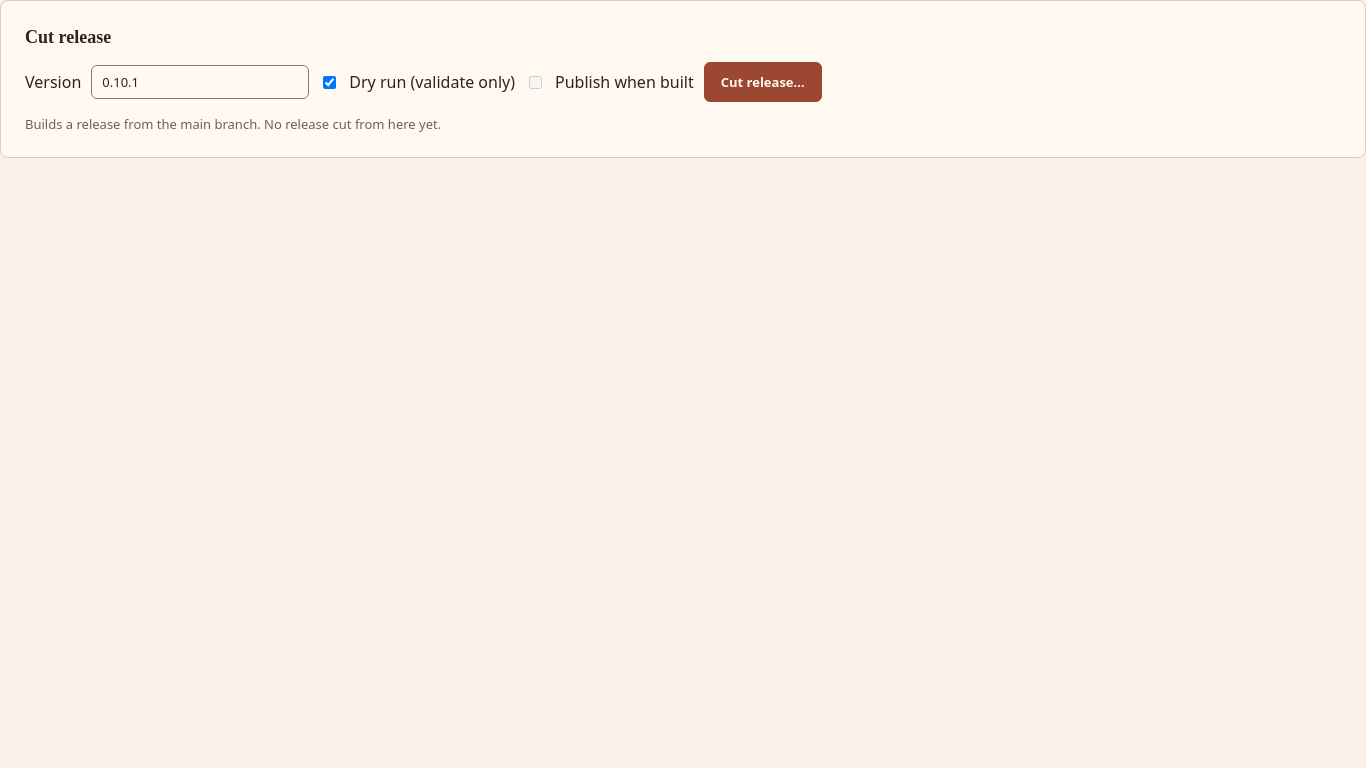
it: Cut release › shows the board's refusal when GitHub says no
Replace the text in the field with test id "cut-version" with "0.10.0": (200, 82) left=91, top=65, right=309, bottom=99
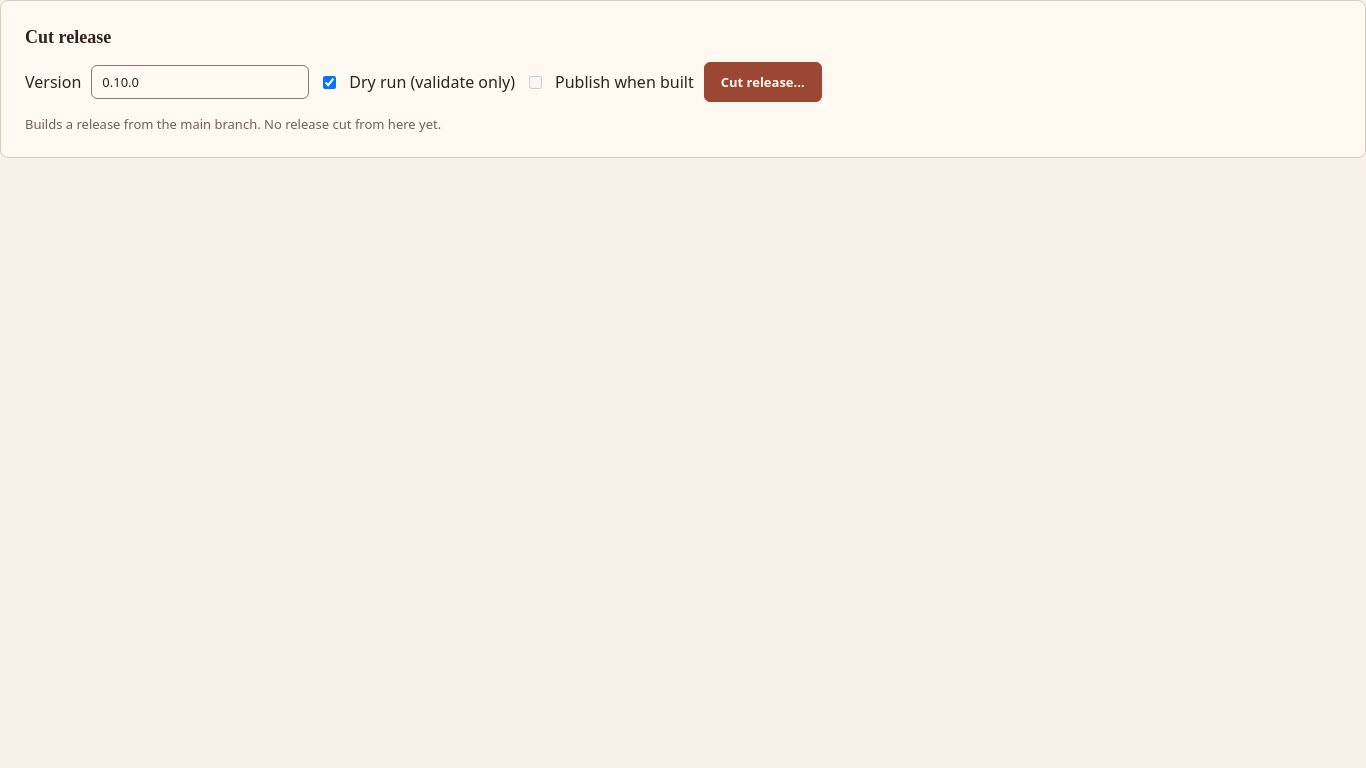
Click the button with test id "cut-release-open": click(763, 82) left=704, top=62, right=822, bottom=102
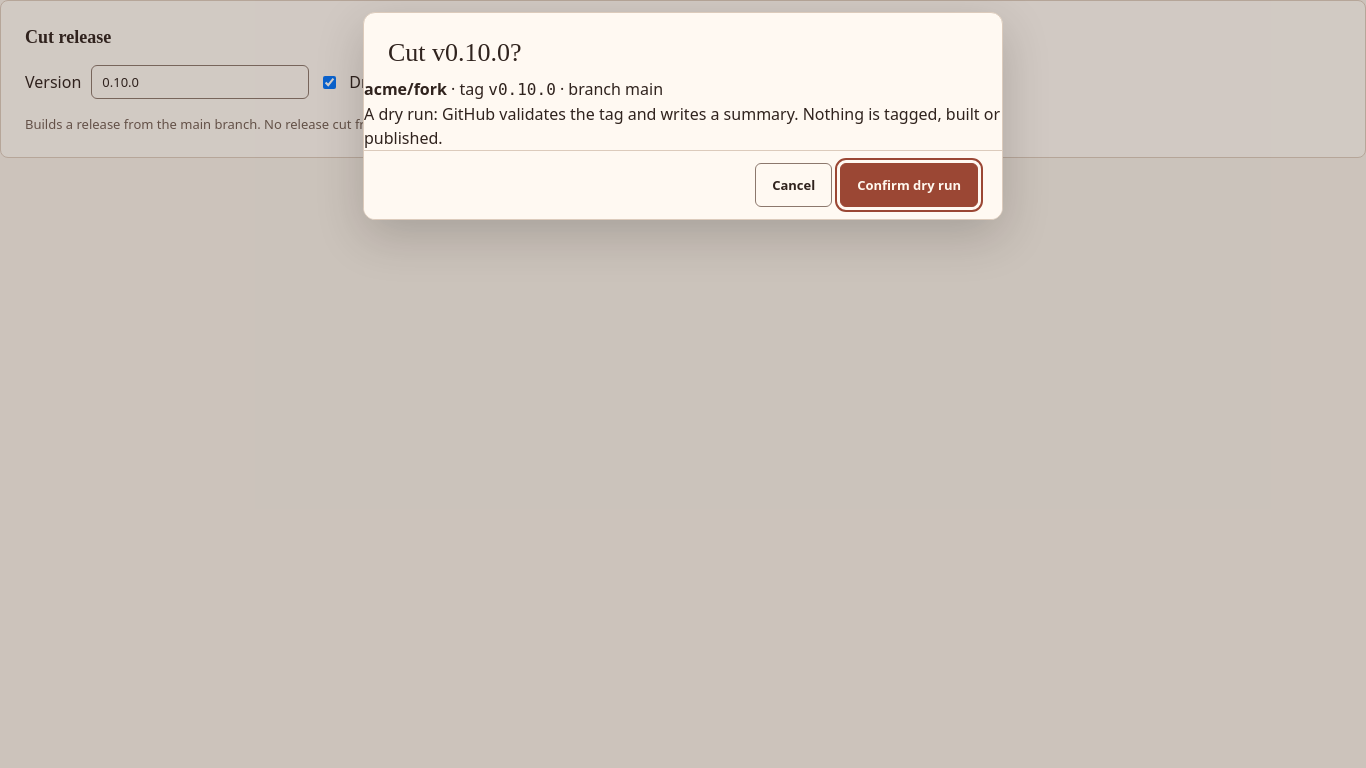
Click the button with test id "cut-confirm-go": click(909, 185) left=840, top=163, right=978, bottom=207
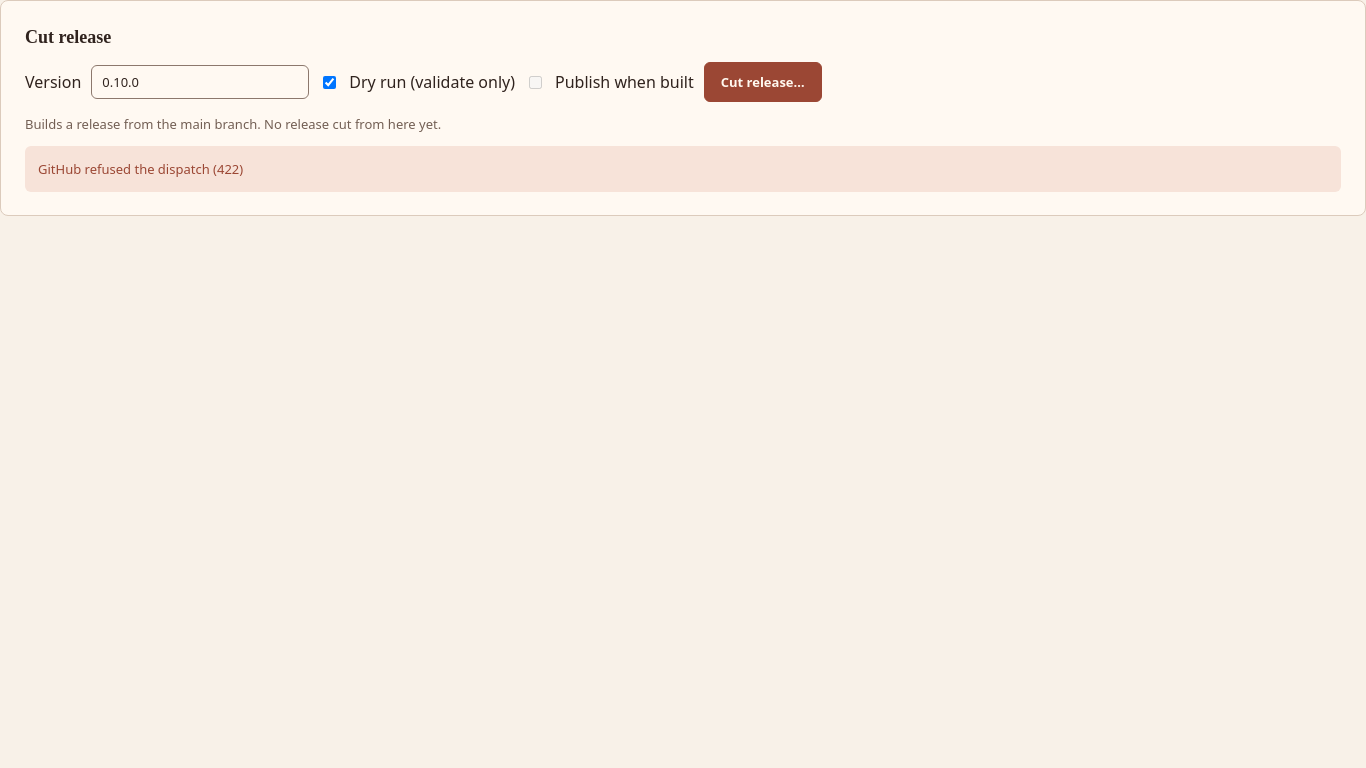
Check: the message with test id "cut-release-error" shows "GitHub refused", box left=38, top=160, right=243, bottom=178
